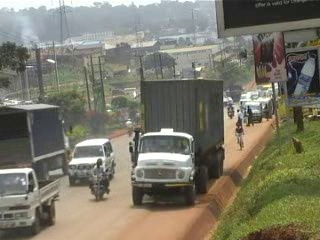Car: (63, 138, 117, 187)
Motorcycle: (84, 160, 112, 202), (122, 117, 137, 136), (224, 99, 237, 120)
